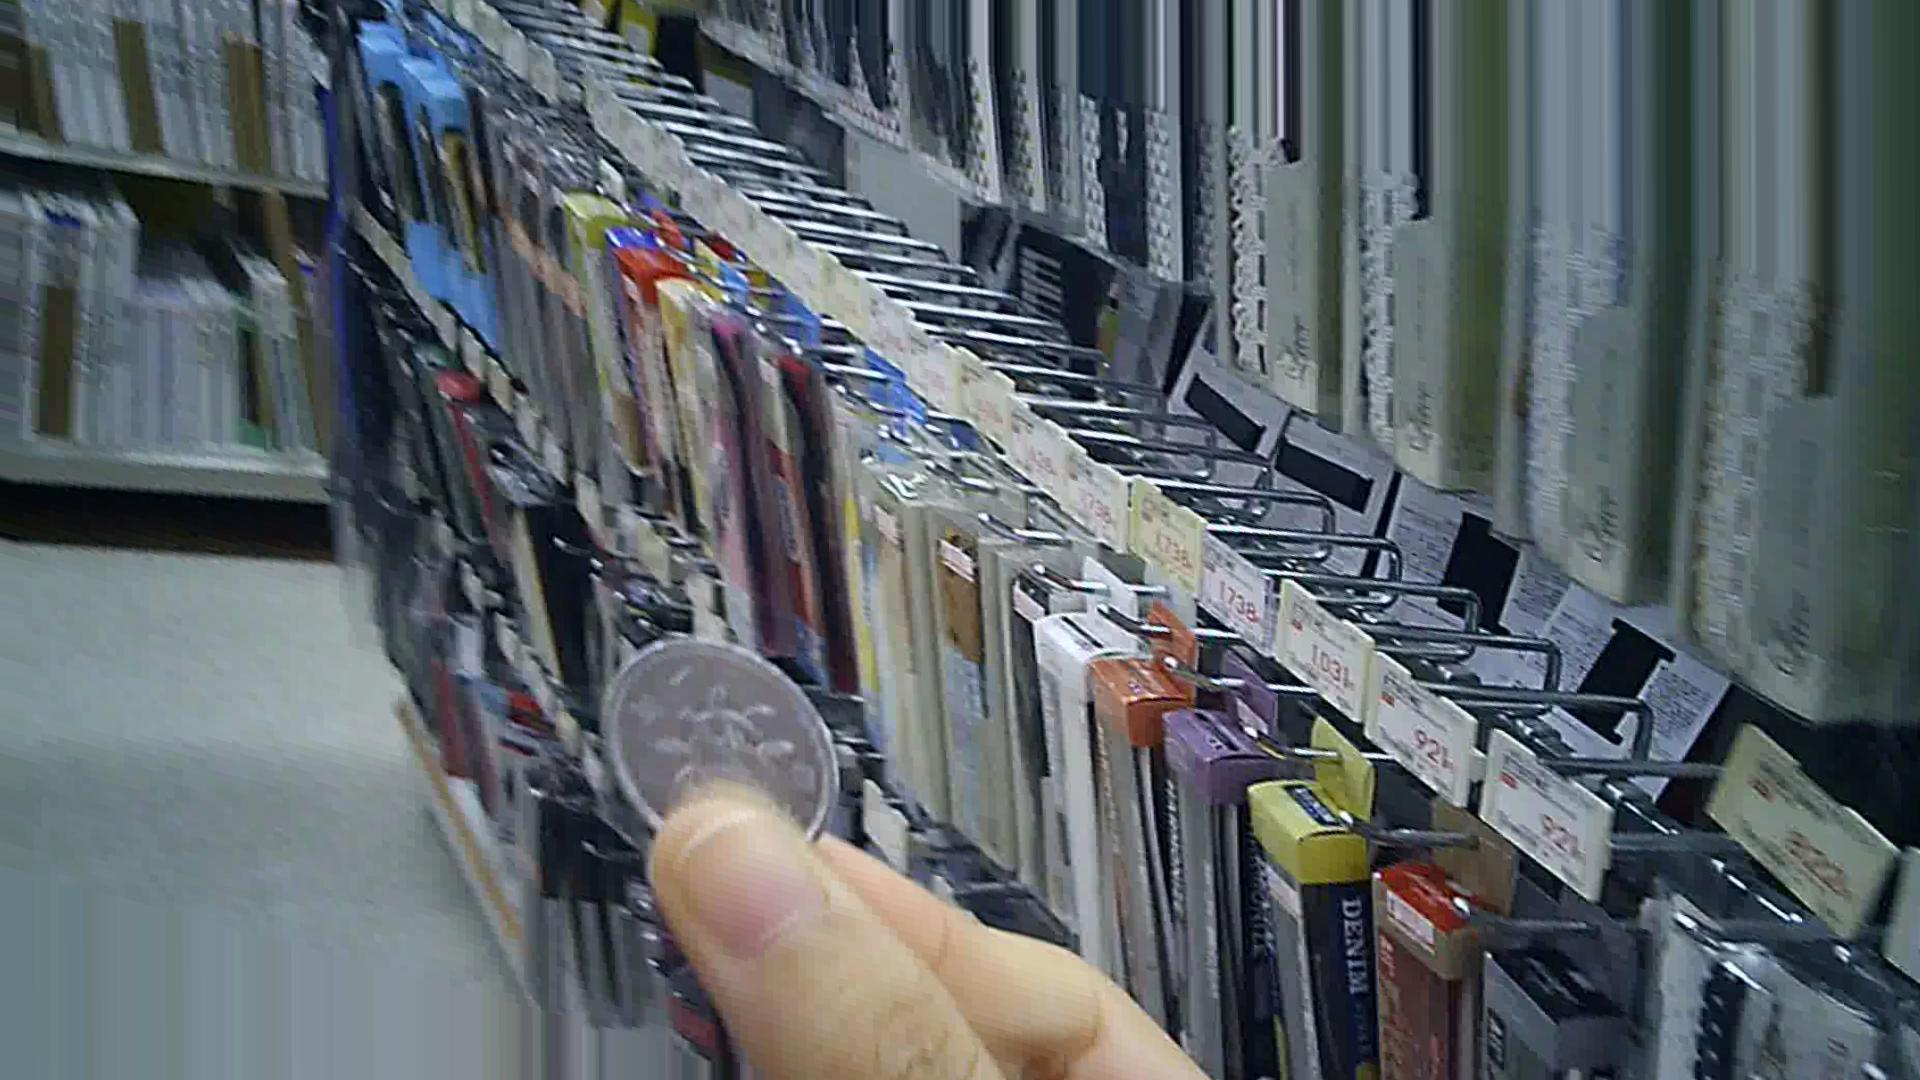1 Yen: (597, 637, 837, 848)
